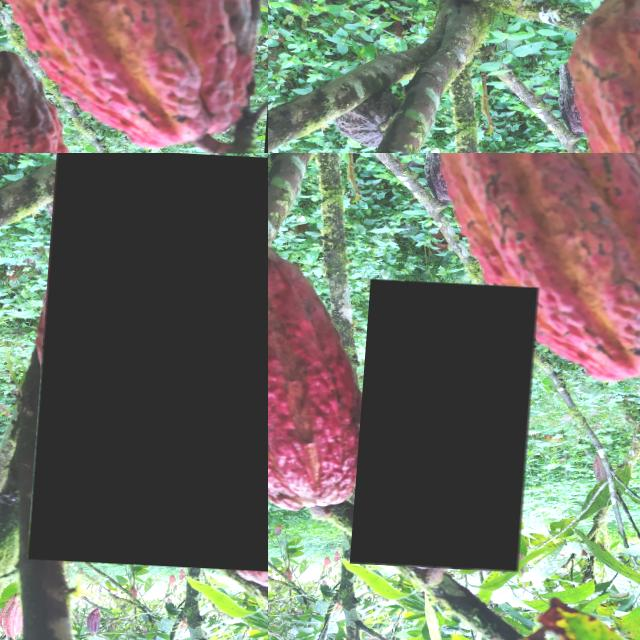Fitoftora: (34, 153, 268, 571), (358, 276, 543, 567), (283, 522, 291, 534)
Sana: (415, 153, 640, 380), (268, 230, 383, 508), (0, 441, 16, 572), (331, 554, 340, 567), (342, 548, 348, 559)
